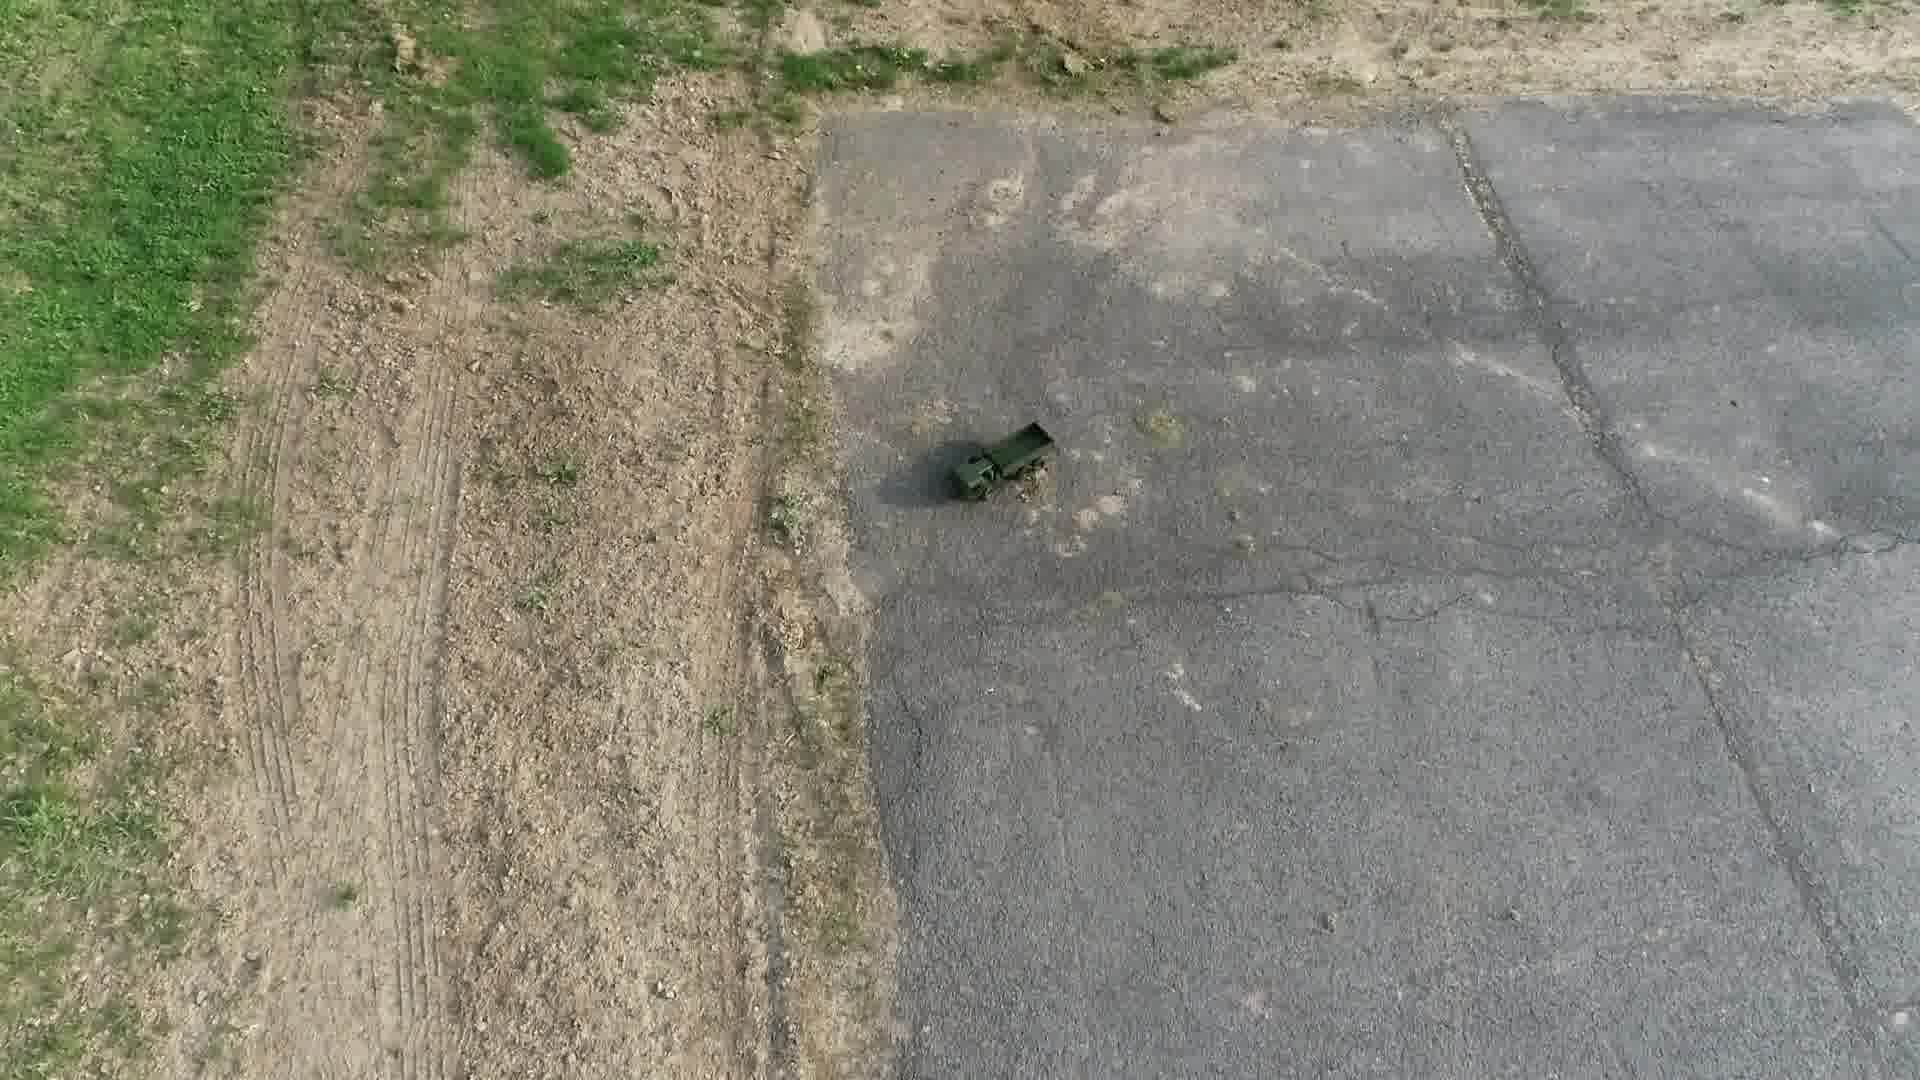transporter9: (943, 418, 1058, 506)
